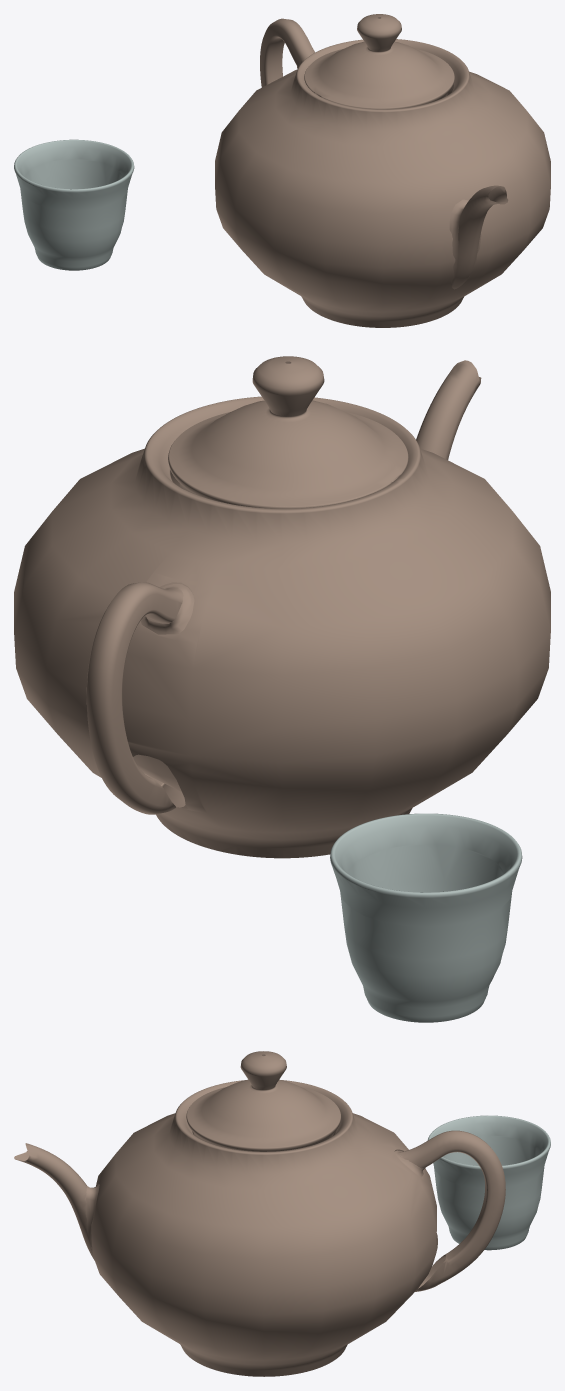
The model's file is teapot2.fbx.
3 renders of one model, top to bottom at view 1: azimuth 30°, elevation 25°; view 2: azimuth 150°, elevation 25°; view 3: azimuth 270°, elevation 25°, orthographic. The views are drawn at different scales.
Parts seen in each view (by area): view 1: nurbsToPoly1, nurbsToPoly3, nurbsToPoly2, nurbsToPoly5, nurbsToPoly4, nurbsToPoly6; view 2: nurbsToPoly1, nurbsToPoly3, nurbsToPoly2, nurbsToPoly4, nurbsToPoly5, nurbsToPoly7; view 3: nurbsToPoly1, nurbsToPoly2, nurbsToPoly3, nurbsToPoly4, nurbsToPoly5, nurbsToPoly6.
Boxes of the visible parts, x1=… form: nurbsToPoly1: x1=215, y1=39, x2=550, y2=327; nurbsToPoly3: x1=14, y1=139, x2=134, y2=270; nurbsToPoly2: x1=304, y1=14, x2=454, y2=109; nurbsToPoly5: x1=453, y1=185, x2=508, y2=289; nurbsToPoly4: x1=260, y1=18, x2=314, y2=87; nurbsToPoly6: x1=449, y1=199, x2=481, y2=288; nurbsToPoly1: x1=14, y1=396, x2=550, y2=858; nurbsToPoly3: x1=330, y1=813, x2=522, y2=1022; nurbsToPoly2: x1=168, y1=356, x2=408, y2=508; nurbsToPoly4: x1=86, y1=582, x2=183, y2=814; nurbsToPoly5: x1=416, y1=360, x2=481, y2=459; nurbsToPoly7: x1=141, y1=584, x2=194, y2=634; nurbsToPoly1: x1=91, y1=1080, x2=437, y2=1376; nurbsToPoly2: x1=186, y1=1051, x2=341, y2=1151; nurbsToPoly3: x1=427, y1=1115, x2=550, y2=1250; nurbsToPoly4: x1=398, y1=1130, x2=505, y2=1291; nurbsToPoly5: x1=14, y1=1143, x2=94, y2=1260; nurbsToPoly6: x1=86, y1=1183, x2=99, y2=1250.
Size of the model in its own units: 32.38 by 21.46 by 36.68.
